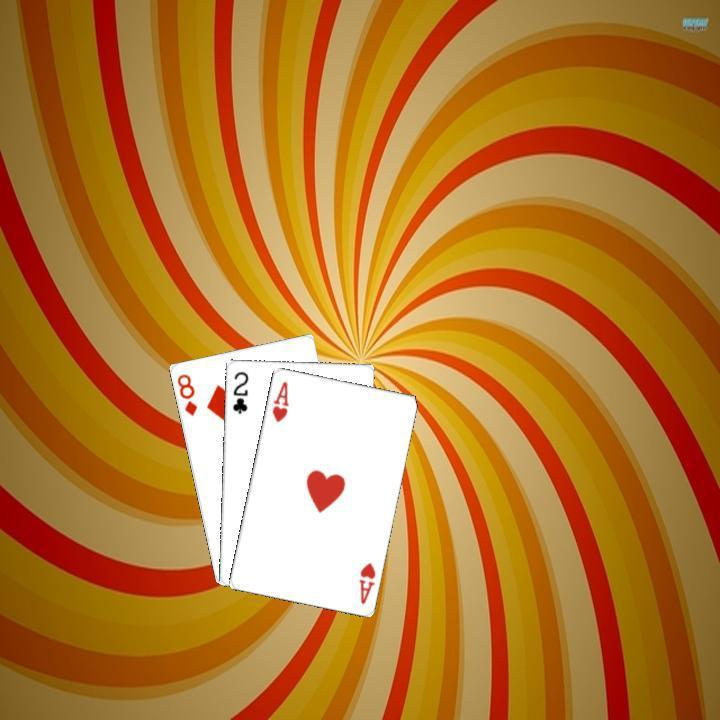2: (228, 367, 250, 415)
8: (172, 369, 199, 418)
A: (267, 377, 291, 424), (354, 558, 377, 606)
